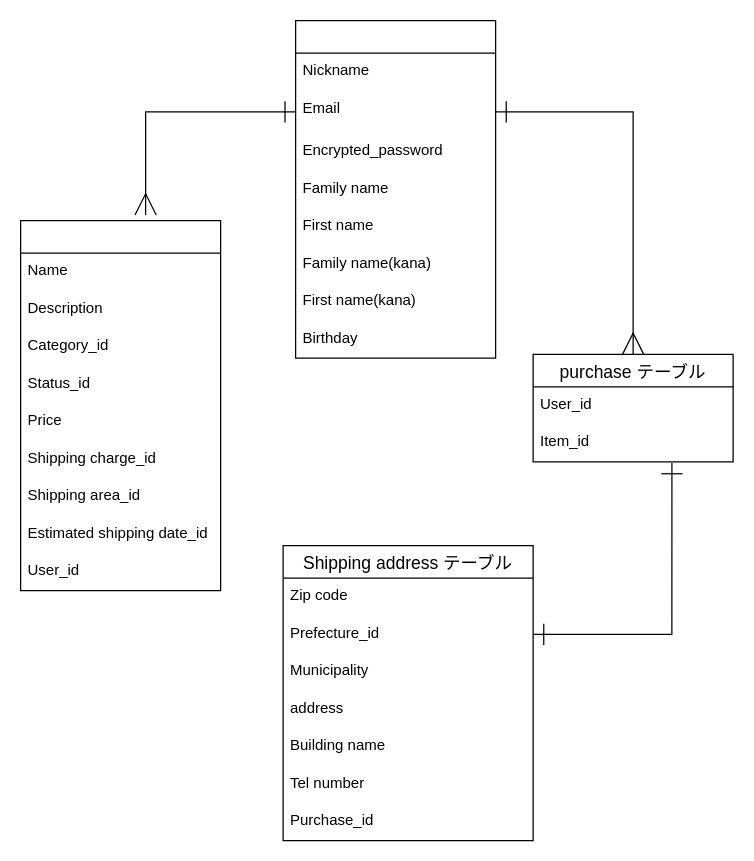
The diagram is 754 pixels wide and 861 high, and some of its shapes have lost their labels. The shapes that lost their labels are listed below. From the top down, each one's box as (x1, y1, x2, y2) in pixels, then its label:
(294, 19, 496, 358): users テーブル
(19, 219, 221, 591): items テーブル
